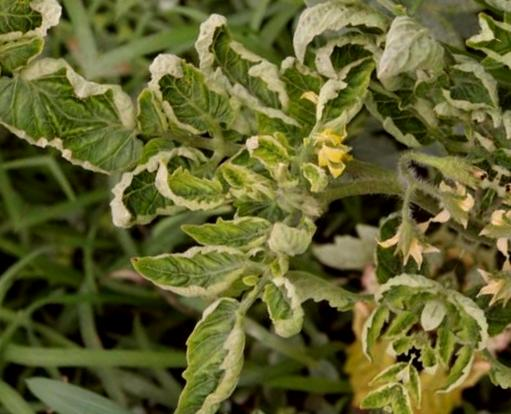Tomato leaf yellow virus: (91, 118, 240, 266), (161, 0, 321, 135), (140, 274, 282, 414), (54, 72, 202, 202), (120, 200, 259, 327), (122, 33, 257, 154), (304, 40, 383, 145), (240, 126, 307, 183), (459, 28, 511, 95)
